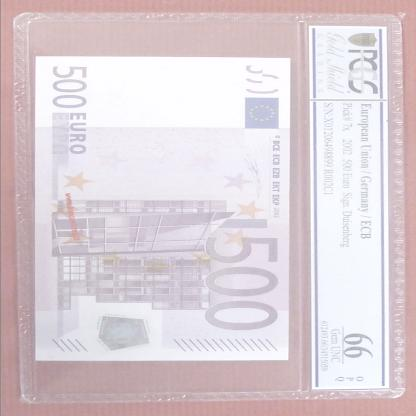euro_banknote: (11, 82, 315, 336)
